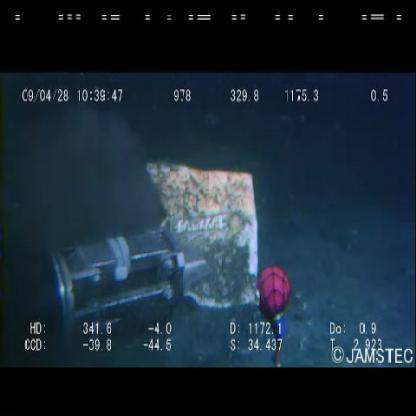Rác: (151, 162, 261, 308)
